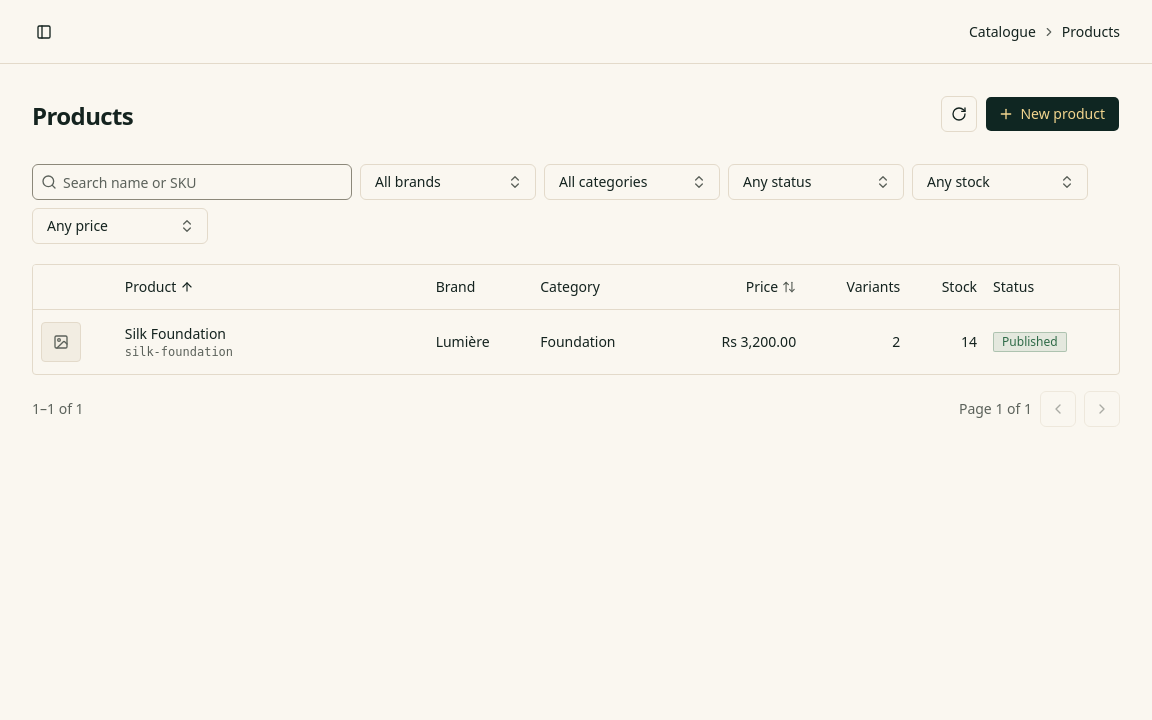
products list › filters by the brand chosen in its combobox and clears it with All brands
Click the dropdown labelled "brand" at point(448, 182), box [360,164,536,200]
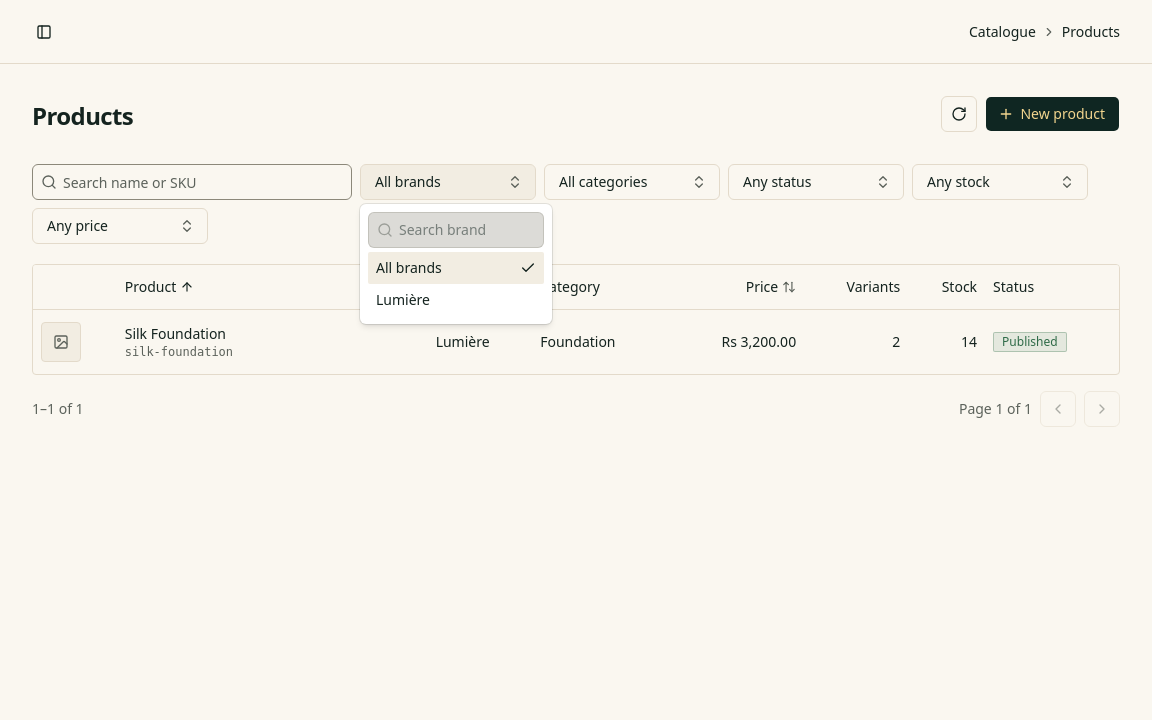
Click the option "Lumière" at point(403, 300), box [376,290,430,309]
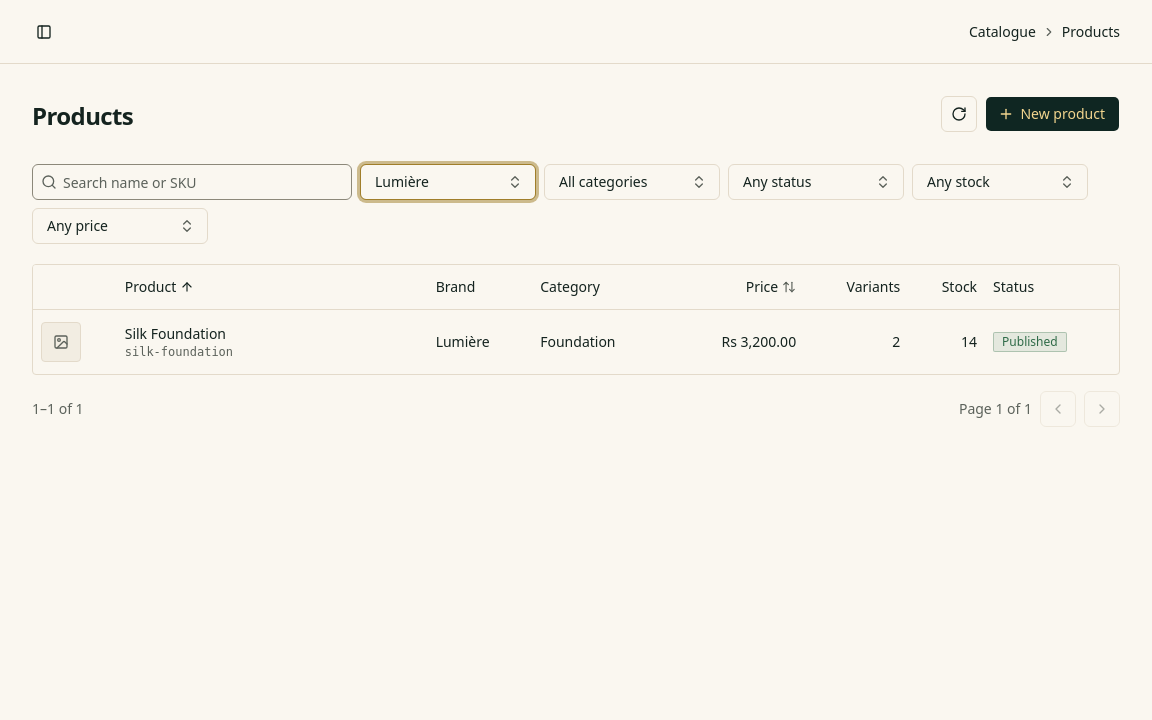
Now the dropdown named "Brand" reads "Lumière"
Click the dropdown named "Brand" at point(448, 182), box [360,164,536,200]
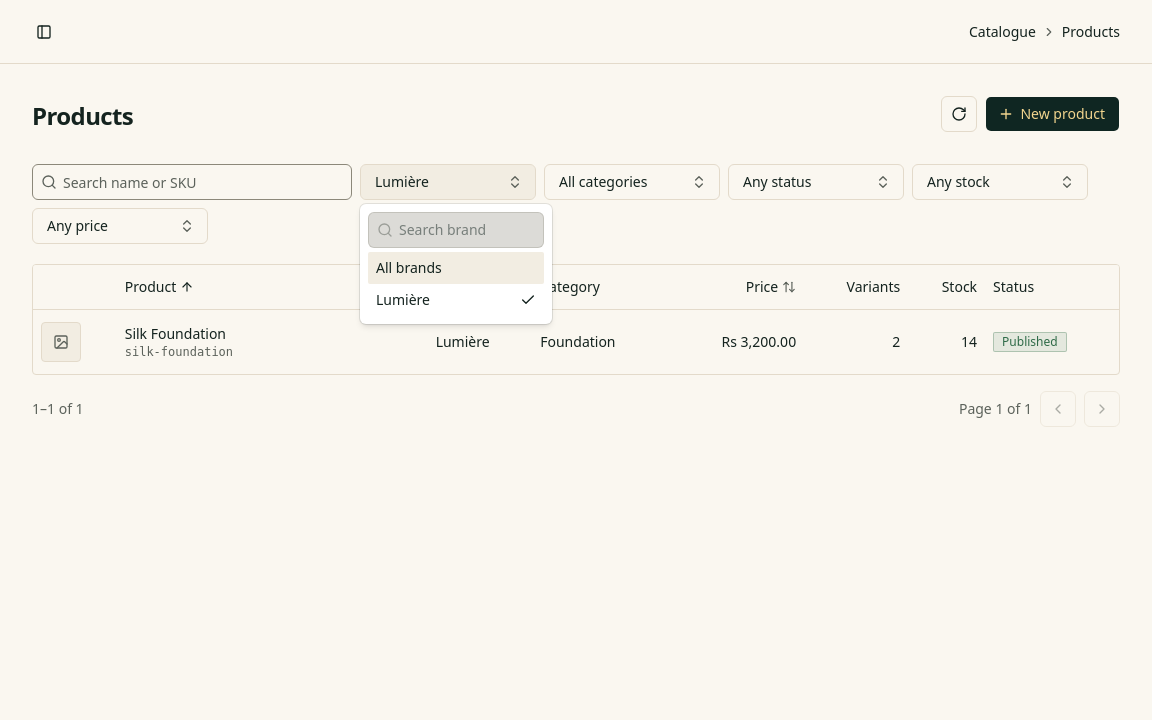
Click the option "All brands" at point(456, 268), box [368,252,544,284]
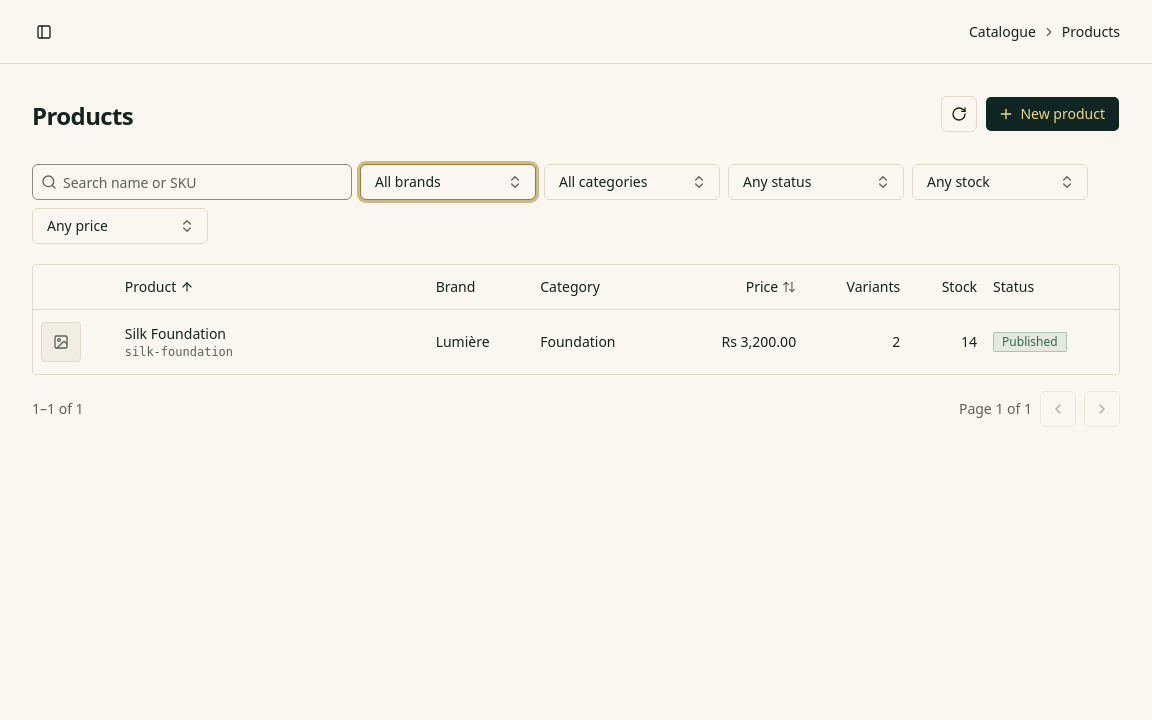
Now the dropdown labelled "brand" reads "All brands", box [360,164,536,200]
